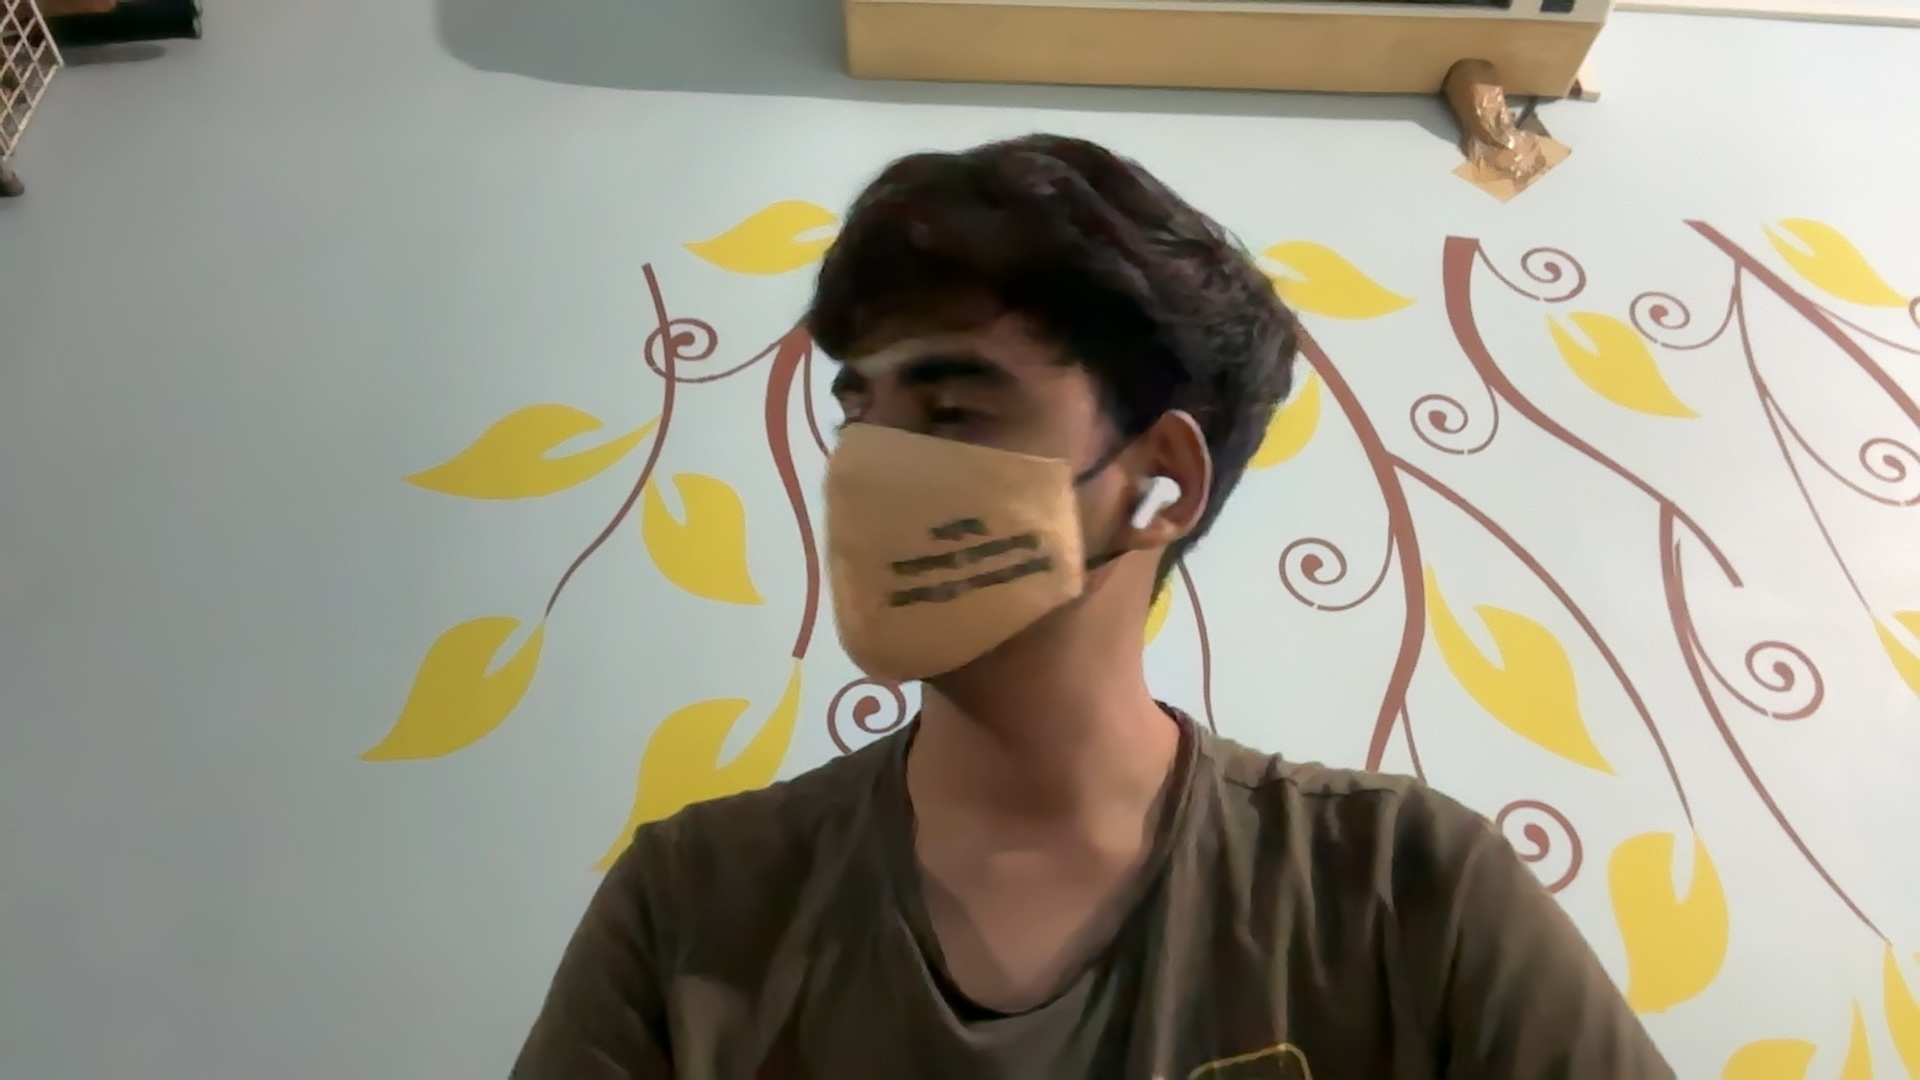Mask: (793, 423, 1100, 703)
